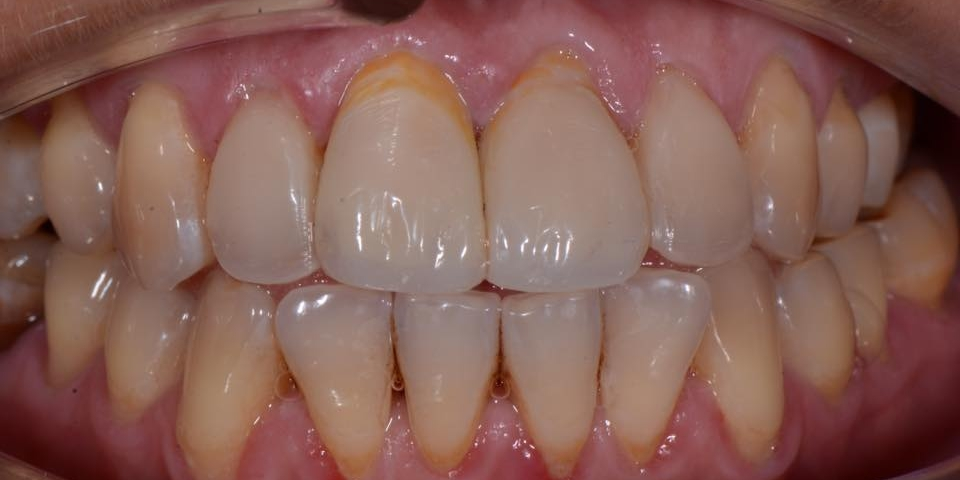LL1BC_healthy: (775, 259, 858, 403)
LL2BC_healthy: (828, 227, 896, 361)
LLCI_healthy: (504, 292, 604, 456)
LLC_healthy: (702, 251, 775, 410)
LLLI_healthy: (601, 272, 708, 441)
LR1BC_healthy: (101, 288, 191, 413)
LR2BC_healthy: (40, 246, 111, 388)
LRCI_healthy: (397, 289, 501, 459)
LRC_healthy: (190, 278, 280, 446)
LRLI_healthy: (276, 284, 392, 461)
UL1BC_healthy: (807, 87, 855, 239)
UL2BC_healthy: (852, 92, 895, 217)
ULCI_healthy: (473, 45, 652, 288)
ULC_healthy: (729, 43, 813, 264)
ULLI_healthy: (640, 53, 754, 262)
UR1BC_healthy: (43, 86, 116, 256)
URCI_healthy: (315, 47, 483, 292)
URC_healthy: (115, 67, 217, 290)
URLI_healthy: (207, 85, 319, 285)
